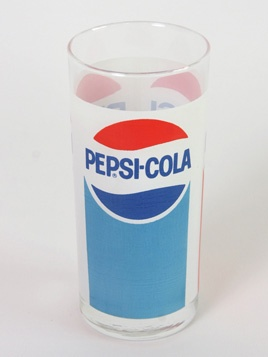pepsi: (83, 118, 189, 221)
